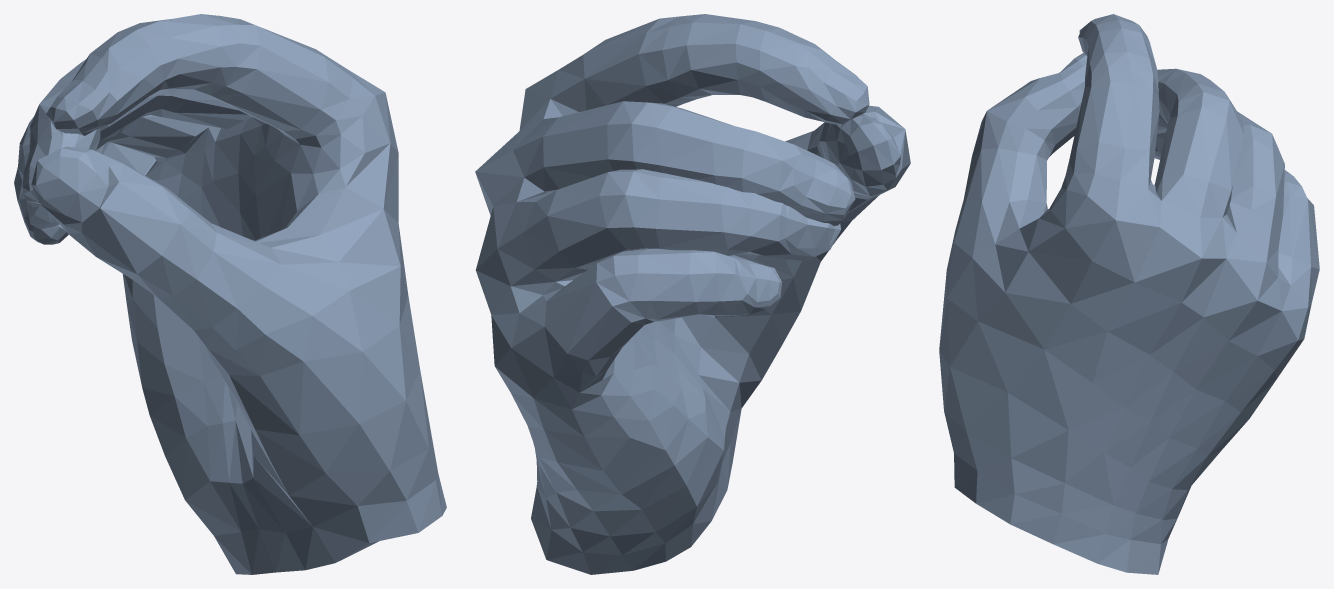
The picture shows the model from 3 angles, left to right: view 1: azimuth 30°, elevation 25°; view 2: azimuth 150°, elevation 25°; view 3: azimuth 270°, elevation 25°; orthographic projection. The views are drawn at different scales.
Size of the model in its own units: 0.0955 by 0.1426 by 0.1028.
